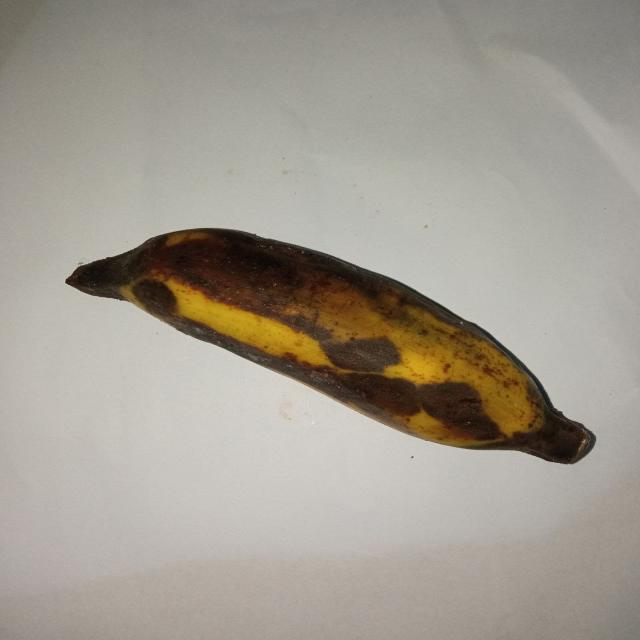rotten_banana: (62, 223, 593, 470)
